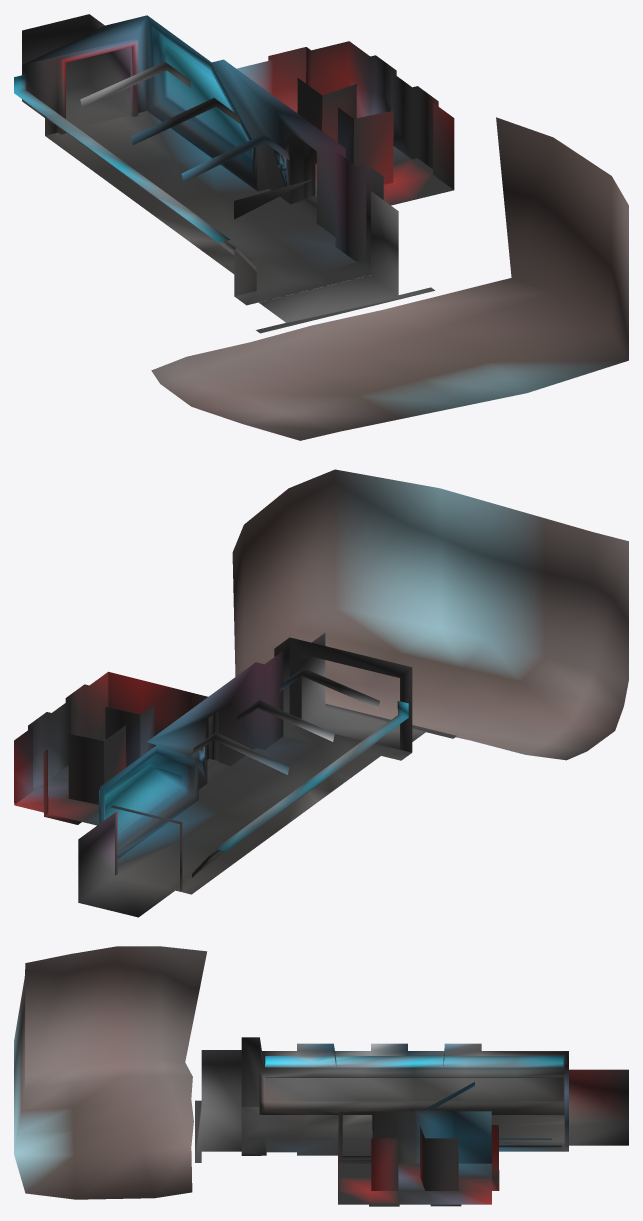
Rendered from inside_corridorA.glb.
3 renders of one model, top to bottom at view 1: azimuth 30°, elevation 25°; view 2: azimuth 150°, elevation 25°; view 3: azimuth 270°, elevation 25°, orthographic. The views are drawn at different scales.
Parts seen in each view (by area): view 1: Plane; view 2: Plane; view 3: Plane.
Boxes of the visible parts, x1,y1,x2,y2 form: Plane: [14, 14, 628, 440]; Plane: [14, 469, 628, 917]; Plane: [14, 946, 628, 1206].
Size of the model in its own units: 18.41 by 6.5 by 31.94.
